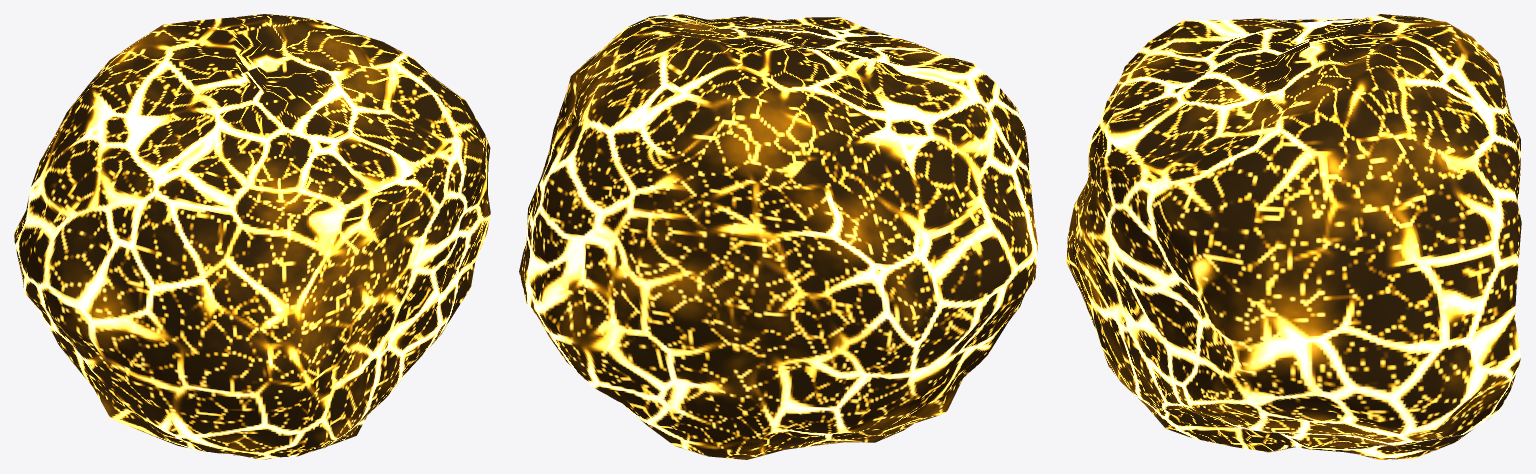
The model's file is rock_hot_gold.glb.
3 views of the same model, side by side, from view 1: azimuth 30°, elevation 25°; view 2: azimuth 150°, elevation 25°; view 3: azimuth 270°, elevation 25° (orthographic). The views are drawn at different scales.
Visible parts, largest first — view 1: rock; view 2: rock; view 3: rock.
Boxes of the visible parts, left/top/right/bottom form: rock: left=14, top=14, right=490, bottom=459; rock: left=519, top=14, right=1037, bottom=459; rock: left=1066, top=14, right=1521, bottom=459.
Bounding box in the file's own units: 2.04 × 1.74 × 1.71.
Materials: 1 (1 with a texture image).
